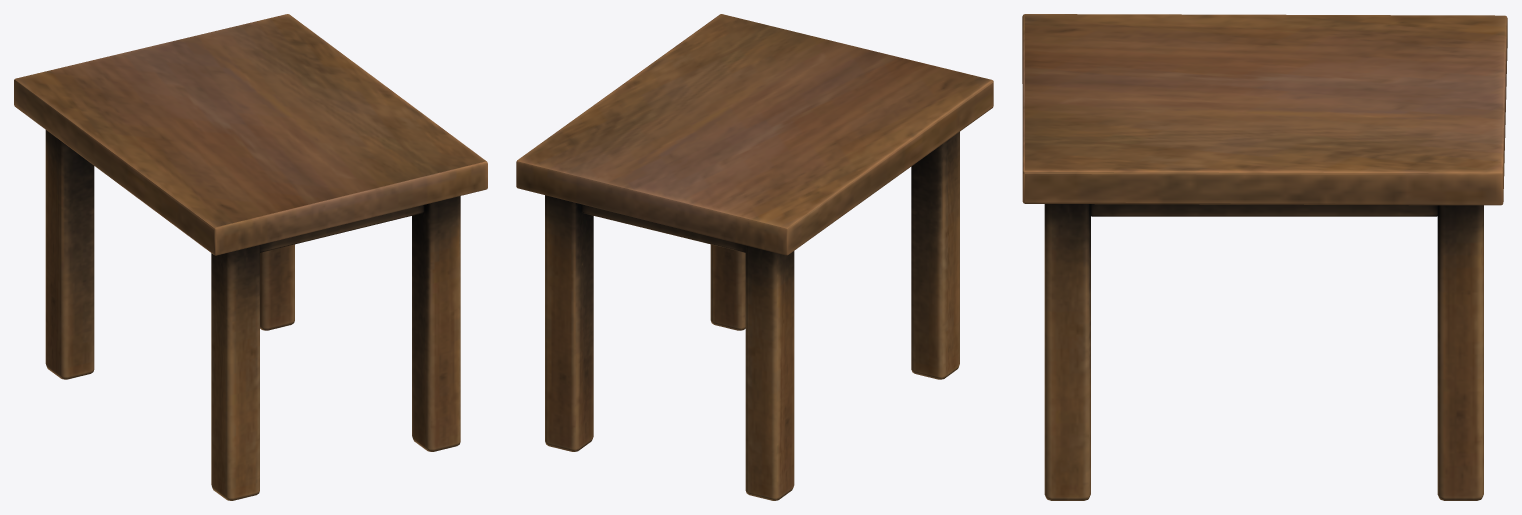
File: SM_Table_2.fbx
The picture shows the model from 3 angles, left to right: view 1: azimuth 30°, elevation 25°; view 2: azimuth 150°, elevation 25°; view 3: azimuth 270°, elevation 25°; orthographic projection. The views are drawn at different scales.
Visible parts, largest first — view 1: SM_Table_2; view 2: SM_Table_2; view 3: SM_Table_2.
Part boxes in pixels (x1,y1,x2,y2): SM_Table_2: (14, 14, 487, 500); SM_Table_2: (516, 14, 993, 500); SM_Table_2: (1022, 14, 1507, 500).
Bounding box in the file's own units: 118 × 118 × 152.
Materials: 2 (2 with a texture image).
